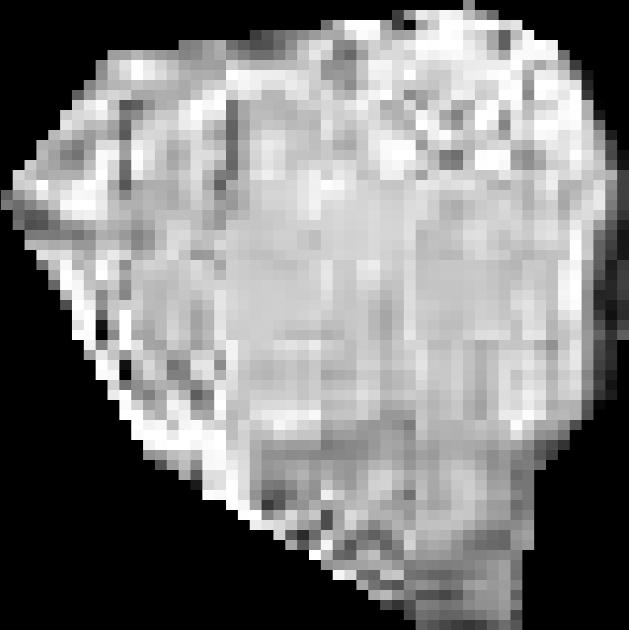tumor_good_chance: (1, 0, 629, 630)
